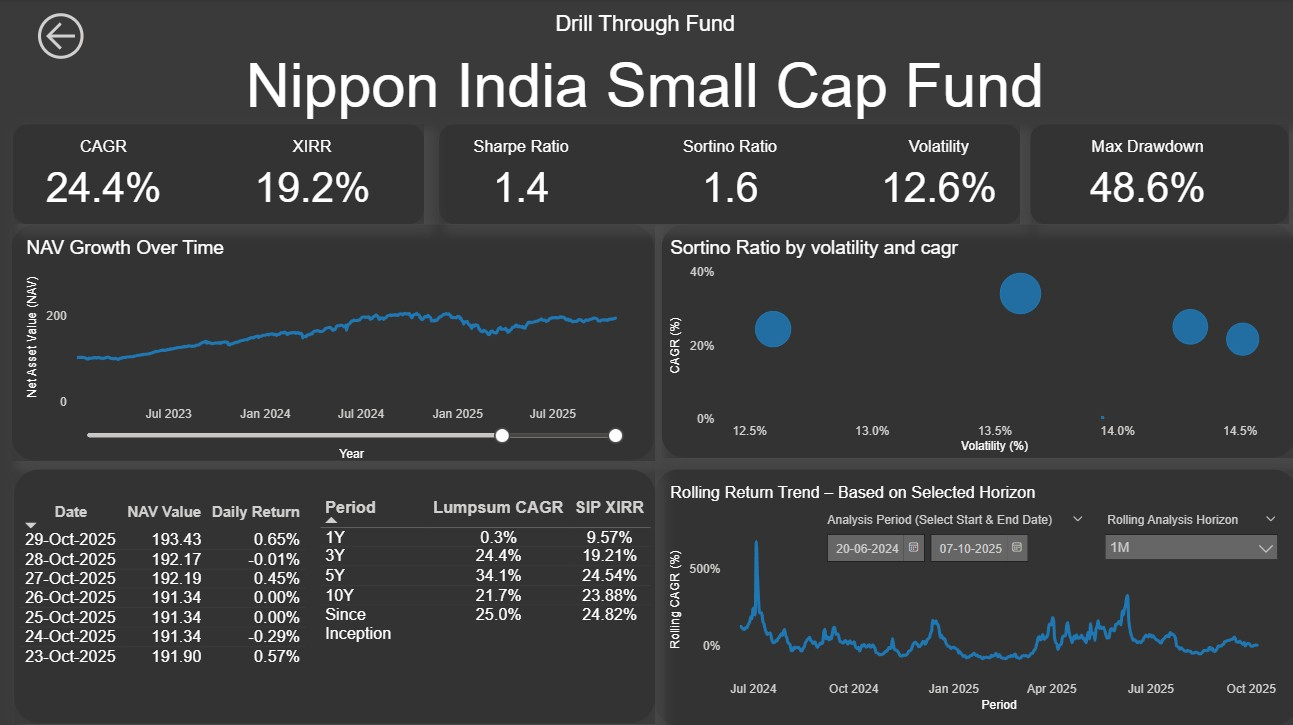

This screenshot's page, from the dashboard's own definition file:
{"tool":"powerbi","page":{"name":"MF  Drill through","canvas":[1280,720],"ordinal":1},"visuals":[{"type":"group","id":"g1","title":"Background","box":[16.8,123.4,1263.4,591.1],"z":0},{"type":"shape","box":[16.8,222,630.9,232],"z":0,"group":"g1"},{"type":"slicer","fields":{"Values":["public rolling_return.nav_date"]},"box":[804.7,501,276.4,59.8],"z":0,"group":"g2"},{"type":"card","title":"Drill Through Fund","fields":{"Values":["Min(public fund_master.fund_name)"]},"box":[15.7,8.7,1246.5,115.4],"z":1000},{"type":"shape","box":[654.7,222,622.5,229.3],"z":1000,"group":"g1"},{"type":"slicer","title":"rolling return period","fields":{"Values":["public rolling_return.horizon"]},"box":[1079.2,500.5,191,59.8],"z":1000,"group":"g2"},{"type":"actionButton","box":[36.5,8.4,64.5,57.5],"z":2000},{"type":"shape","box":[647.9,462.2,632.3,252.4],"z":2000,"group":"g1"},{"type":"cardVisual","fields":{"Data":["_DrllMeasures.KPI_Lumpsum_CAGR_Selected","_DrllMeasures.KPI_SIP_XIRR_Selected","_DrllMeasures.KPI_Lumpsum_Sharpe_Selected","_DrllMeasures.KPI_Lumpsum_Sortino_Selected","_DrllMeasures.KPI_Lumpsum_Volatility_Selected","_DrllMeasures.Max_Drawdown"]},"box":[0,117.8,1245,112.2],"z":3000},{"type":"shape","box":[19.9,462.2,629.5,249.6],"z":3000,"group":"g1"},{"type":"shape","box":[436,123.4,570.6,98.1],"z":4000,"group":"g1"},{"type":"lineChart","title":"NAV Growth Over Time","fields":{"Y":["Avg(public nav_history.nav_value)"],"Category":["public nav_history.nav_date.Variation.Date Hierarchy.Year","public nav_history.nav_date.Variation.Date Hierarchy.Month","public nav_history.nav_date.Variation.Date Hierarchy.Day"]},"box":[26.6,234.1,611.3,222.9],"z":4000},{"type":"shape","box":[1016.4,123.4,253.8,98.1],"z":5000,"group":"g1"},{"type":"scatterChart","fields":{"X":["public risk_metrics.volatility"],"Y":["public risk_metrics.cagr"],"Size":["Avg(public risk_metrics.sortino)"]},"box":[658.9,234.1,611.3,217.3],"z":5000},{"type":"shape","box":[18.2,123.4,403.8,98.1],"z":6000,"group":"g1"},{"type":"tableEx","fields":{"Values":["public daily_return.Formatted Date","public daily_return.nav_value","public daily_return.daily_return"]},"box":[19.6,490.7,294.4,229.9],"z":6000},{"type":"tableEx","fields":{"Values":["Period_Table.Period_Name","_DrllMeasures.KPI_Lumpsum_CAGR_Selected","_DrllMeasures.KPI_SIP_XIRR_Selected"]},"box":[314.1,485.9,341.1,211],"z":7000},{"type":"lineChart","fields":{"Category":["public rolling_return.nav_date.Variation.Date Hierarchy.Year","public rolling_return.nav_date.Variation.Date Hierarchy.Month","public rolling_return.nav_date.Variation.Date Hierarchy.Day"],"Y":["Avg(public rolling_return.cagr)"]},"box":[658.9,500.5,611.3,204.7],"z":8000},{"type":"group","id":"g2","title":"rolling return slicers","box":[804.7,500.5,465.5,60.3],"z":9000},{"type":"textbox","box":[658.9,471.1,374.3,29.4],"z":10000}]}

Visuals, with their boxes in screenshot pixels (x1, y1, x2, y2), scaled from the page's 1280x720 canvas onto the 1293x725 screenshot:
"Background" group: rect(17, 124, 1292, 719)
shape: rect(17, 224, 654, 457)
slicer - public rolling_return.nav_date: rect(813, 504, 1092, 565)
"Drill Through Fund" card: rect(16, 9, 1275, 125)
shape: rect(661, 224, 1290, 454)
"rolling return period" slicer: rect(1090, 504, 1283, 564)
actionButton: rect(37, 8, 102, 66)
shape: rect(654, 465, 1292, 720)
cardVisual - _DrllMeasures.KPI_Lumpsum_CAGR_Selected x _DrllMeasures.KPI_SIP_XIRR_Selected: rect(0, 119, 1258, 232)
shape: rect(20, 465, 656, 717)
shape: rect(440, 124, 1017, 223)
"NAV Growth Over Time" lineChart: rect(27, 236, 644, 460)
shape: rect(1027, 124, 1283, 223)
scatterChart - public risk_metrics.volatility x public risk_metrics.cagr: rect(666, 236, 1283, 455)
shape: rect(18, 124, 426, 223)
tableEx - public daily_return.Formatted Date x public daily_return.nav_value: rect(20, 494, 317, 724)
tableEx - Period_Table.Period_Name x _DrllMeasures.KPI_Lumpsum_CAGR_Selected: rect(317, 489, 662, 702)
lineChart - public rolling_return.nav_date.Variation.Date Hierarchy.Year x public rolling_return.nav_date.Variation.Date Hierarchy.Month: rect(666, 504, 1283, 710)
"rolling return slicers" group: rect(813, 504, 1283, 565)
textbox: rect(666, 474, 1044, 504)
